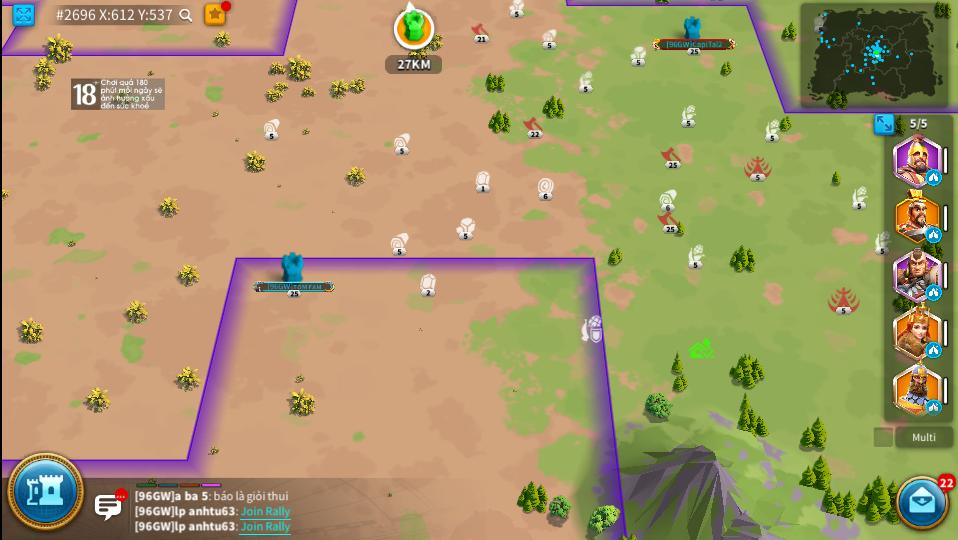gem-z-out: (420, 272, 436, 297), (475, 171, 492, 191)
march_idle: (925, 228, 942, 242), (926, 170, 940, 185), (927, 400, 941, 415), (926, 285, 940, 299), (928, 343, 940, 357)
